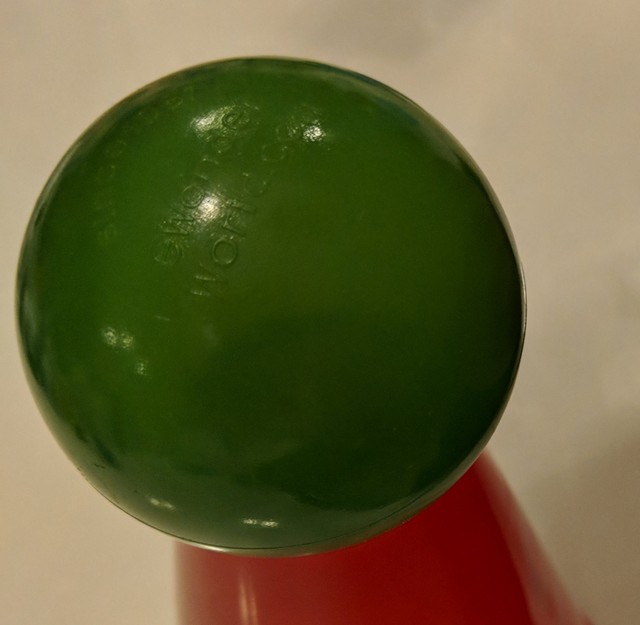Ball: (19, 56, 524, 546)
